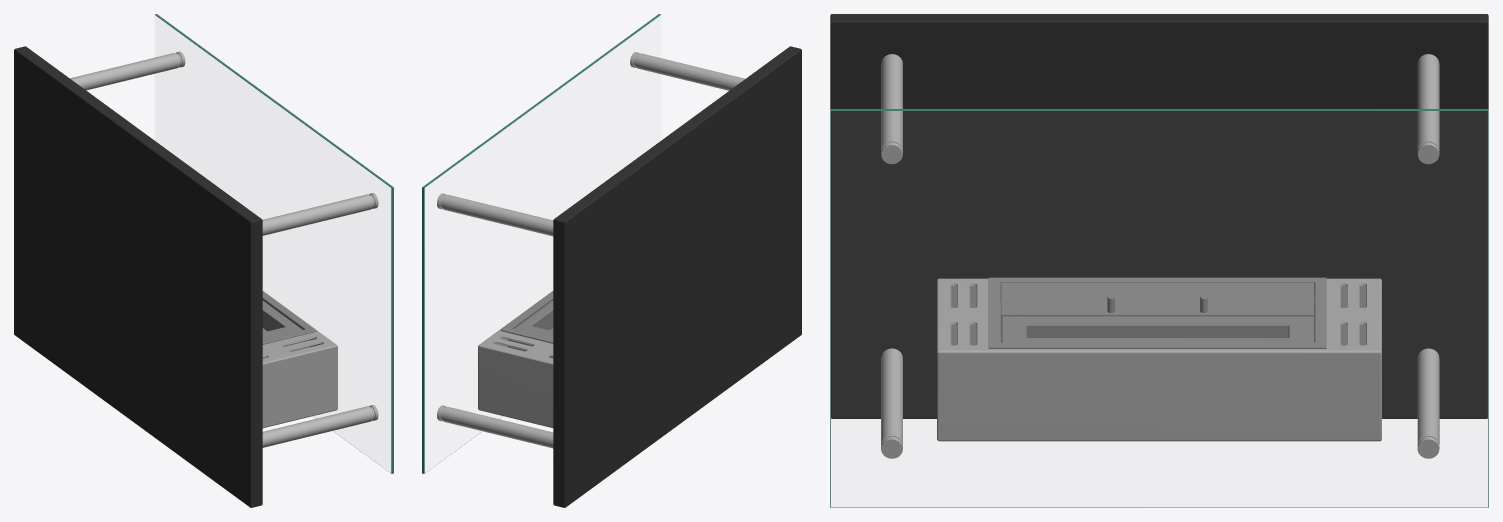
Rendered from bio-10-008.gltf.
3 renders of one model, left to right at view 1: azimuth 30°, elevation 25°; view 2: azimuth 150°, elevation 25°; view 3: azimuth 270°, elevation 25°, orthographic. The views are drawn at different scales.
Visible parts, largest first — view 1: mesh_0, mesh_12, mesh_2, mesh_11, mesh_3, mesh_5, mesh_13; view 2: mesh_0, mesh_12, mesh_4, mesh_3, mesh_2, mesh_13, mesh_5; view 3: mesh_0, mesh_12, mesh_5, mesh_8, mesh_13, mesh_4, mesh_3, mesh_11, mesh_2.
Boxes of the visible parts, bbox=[...] form: mesh_0: bbox=[14, 46, 262, 507]; mesh_12: bbox=[262, 291, 337, 428]; mesh_2: bbox=[262, 193, 378, 235]; mesh_11: bbox=[262, 405, 378, 447]; mesh_3: bbox=[70, 51, 185, 90]; mesh_5: bbox=[262, 291, 316, 358]; mesh_13: bbox=[155, 14, 393, 473]; mesh_0: bbox=[553, 46, 801, 507]; mesh_12: bbox=[478, 291, 553, 428]; mesh_4: bbox=[437, 405, 553, 448]; mesh_3: bbox=[437, 193, 553, 236]; mesh_2: bbox=[630, 52, 745, 90]; mesh_13: bbox=[422, 14, 660, 473]; mesh_5: bbox=[500, 291, 553, 357]; mesh_0: bbox=[830, 14, 1488, 418]; mesh_12: bbox=[937, 278, 1381, 441]; mesh_5: bbox=[988, 277, 1326, 348]; mesh_8: bbox=[1001, 283, 1314, 316]; mesh_13: bbox=[830, 109, 1488, 507]; mesh_4: bbox=[1417, 348, 1439, 458]; mesh_3: bbox=[1417, 54, 1439, 164]; mesh_11: bbox=[881, 348, 902, 458]; mesh_2: bbox=[881, 54, 902, 164].
Bounding box in the file's own units: 0.2137 × 0.4 × 0.6.
